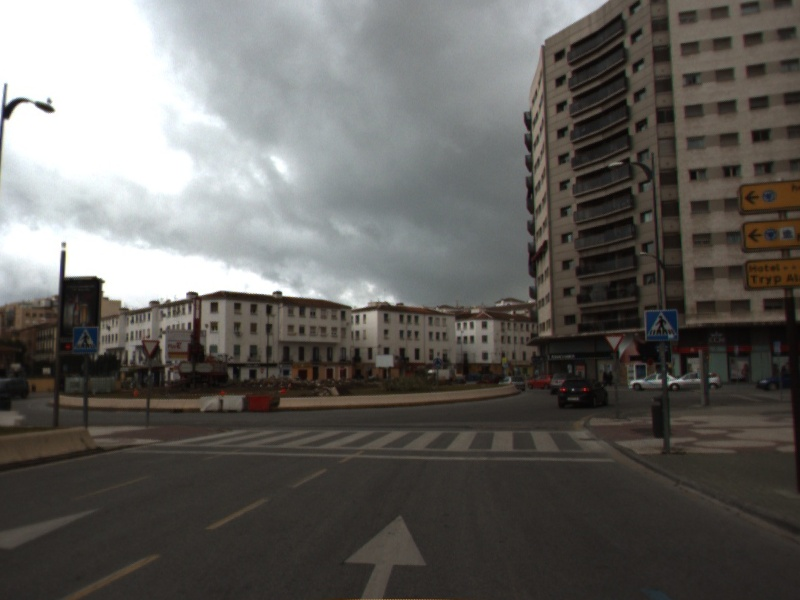STRAIGHT: (338, 511, 434, 600)
